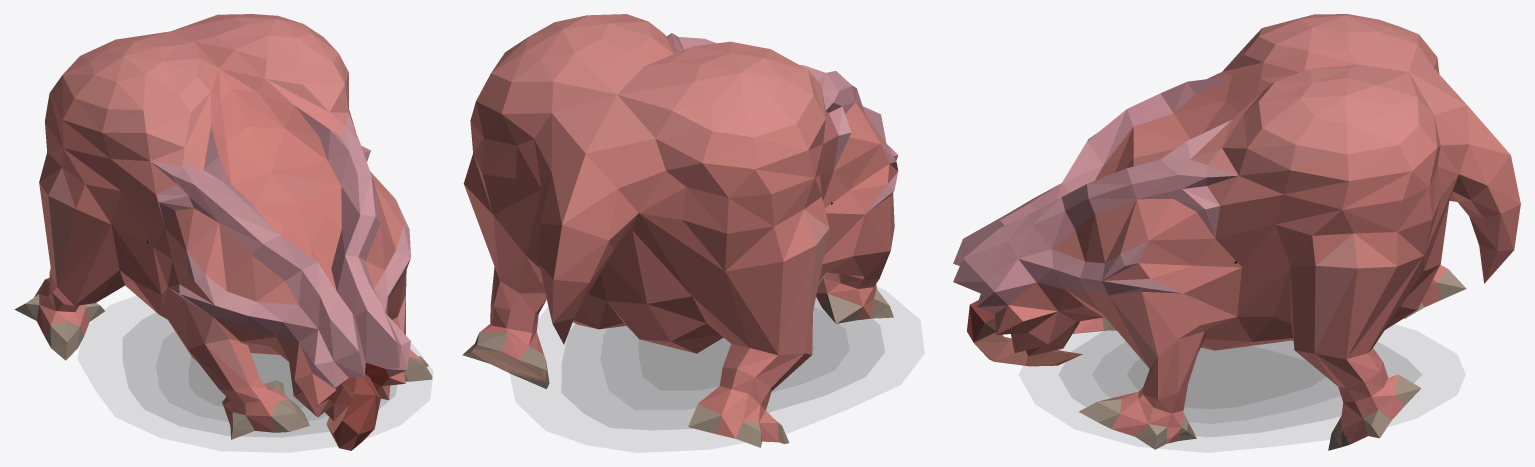
File: superior_bloodveld.gltf
3 views of the same model, side by side, from view 1: azimuth 30°, elevation 25°; view 2: azimuth 150°, elevation 25°; view 3: azimuth 270°, elevation 25° (orthographic). The views are drawn at different scales.
Size of the model in its own units: 222 by 227 by 340.
Materials: 2 (2 with a texture image).
